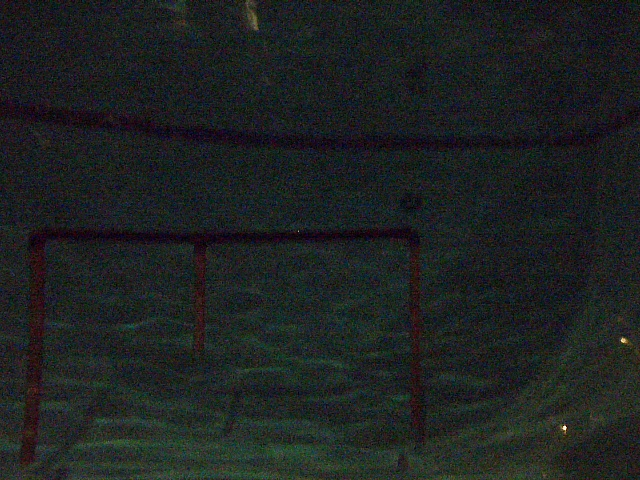Gate: (20, 242, 48, 455), (405, 243, 430, 445), (189, 247, 210, 362)
